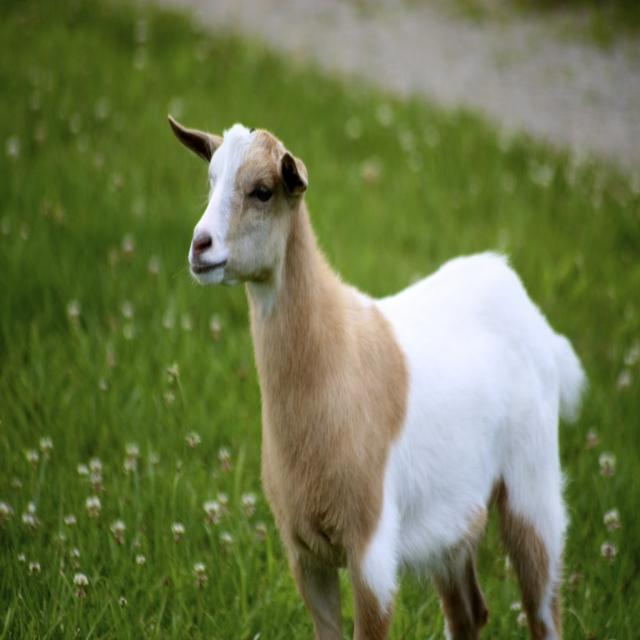Goat: (167, 115, 589, 638)
